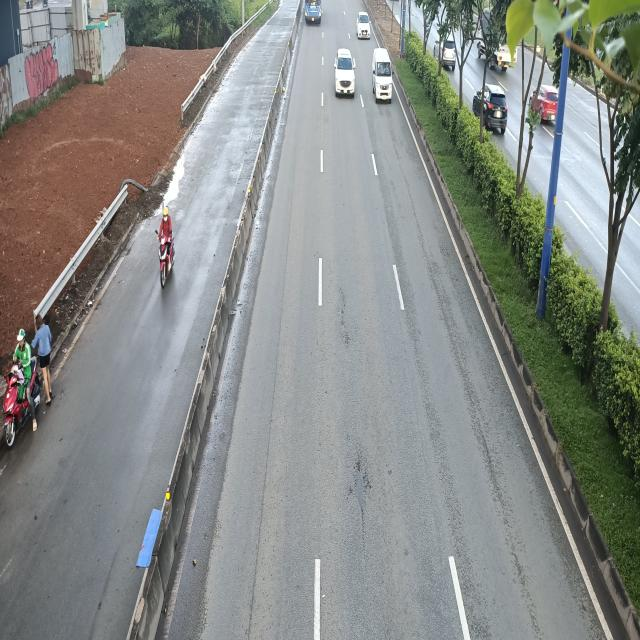car: (335, 49, 358, 98), (356, 12, 371, 40)
van: (372, 48, 395, 103)
